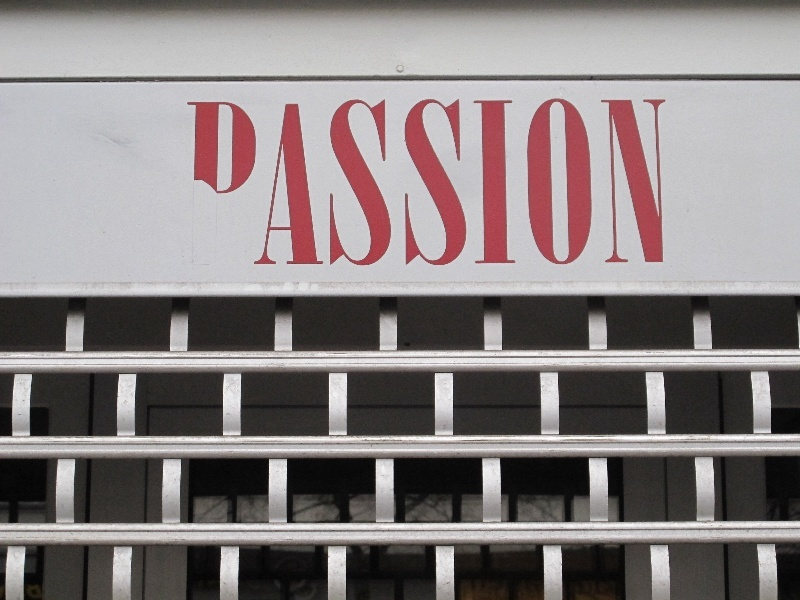text: (193, 98, 208, 267), (209, 98, 224, 267), (225, 98, 240, 267), (241, 98, 256, 267), (257, 98, 272, 267), (273, 98, 288, 267), (289, 98, 304, 267), (305, 98, 320, 267), (321, 98, 336, 267), (337, 98, 352, 267), (353, 98, 368, 267), (369, 98, 384, 267), (385, 98, 400, 267), (401, 98, 416, 267), (417, 98, 432, 267), (433, 98, 448, 267), (449, 98, 464, 267), (465, 98, 480, 267), (481, 98, 496, 267), (497, 98, 512, 267), (513, 98, 528, 267), (529, 98, 544, 267), (545, 98, 560, 267), (561, 98, 576, 267), (577, 98, 592, 267), (593, 98, 608, 267), (609, 98, 624, 267), (625, 98, 640, 267), (641, 98, 656, 267), (657, 98, 670, 267), (186, 98, 192, 267)
